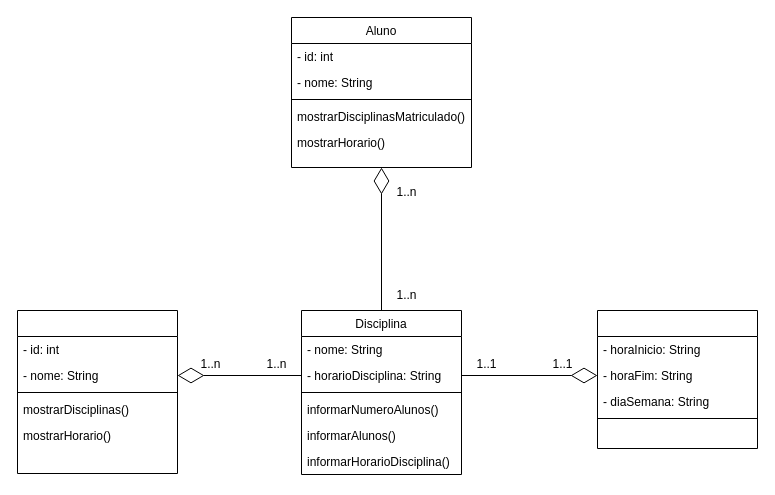
Some shapes in this 775 by 495 pixel diagram are drawn without their labels. The box of each missing label's shape, as (x1, y1, x2, y2) in pixels:
Horario: (596, 310, 758, 448)
Professor: (16, 310, 178, 474)
